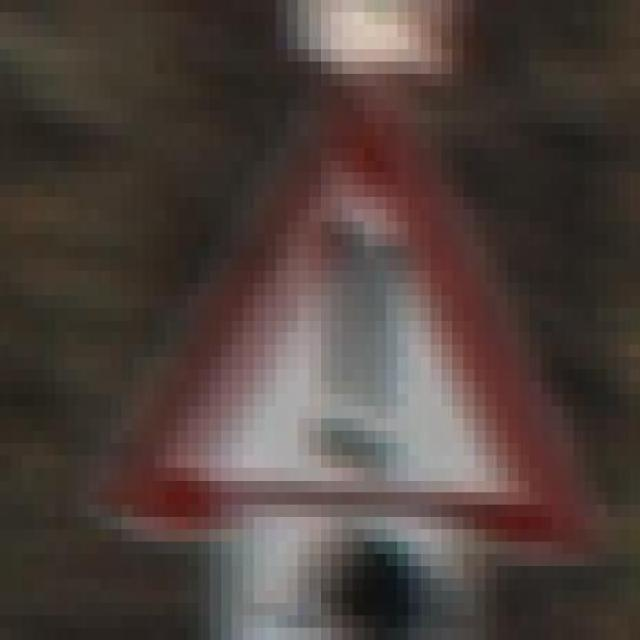Attention Please-: (110, 62, 607, 566)
